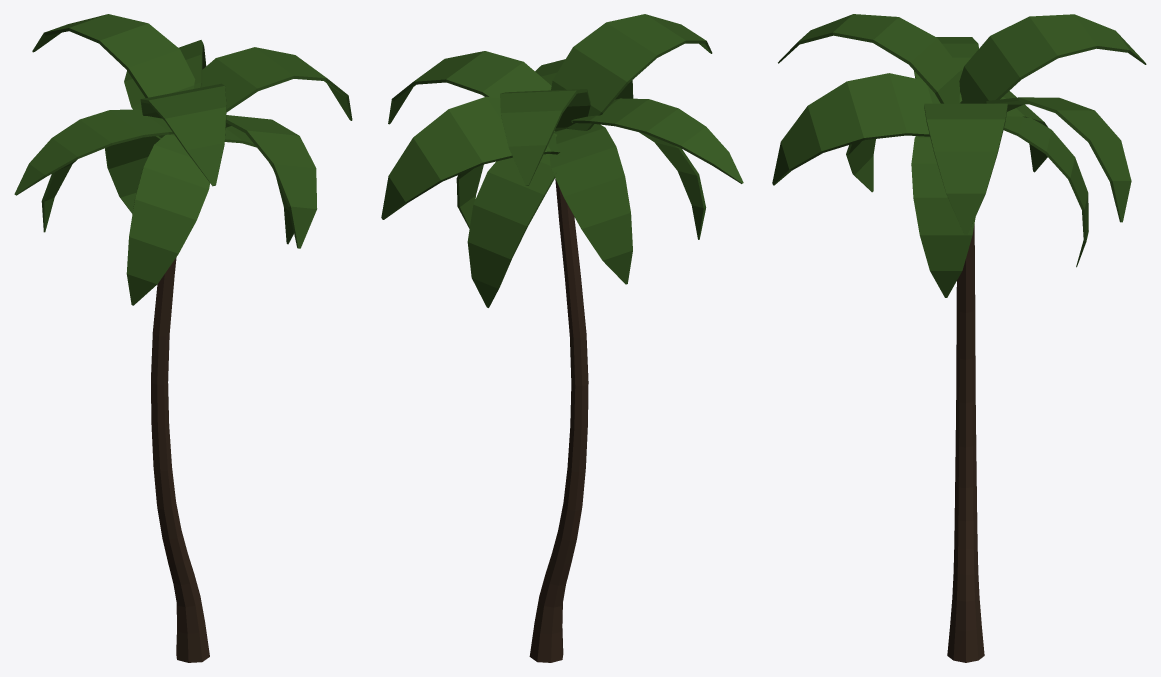
File: SM_tree_palm_01.fbx
3 views of the same model, side by side, from view 1: azimuth 30°, elevation 25°; view 2: azimuth 150°, elevation 25°; view 3: azimuth 270°, elevation 25° (orthographic).
Parts seen in each view (by area): view 1: Line002; view 2: Line002; view 3: Line002.
Part boxes in pixels (<box>): Line002: <box>14,14,352,662</box>; Line002: <box>381,14,743,662</box>; Line002: <box>772,14,1146,662</box>.
Size of the model in its own units: 158 by 147 by 264.
